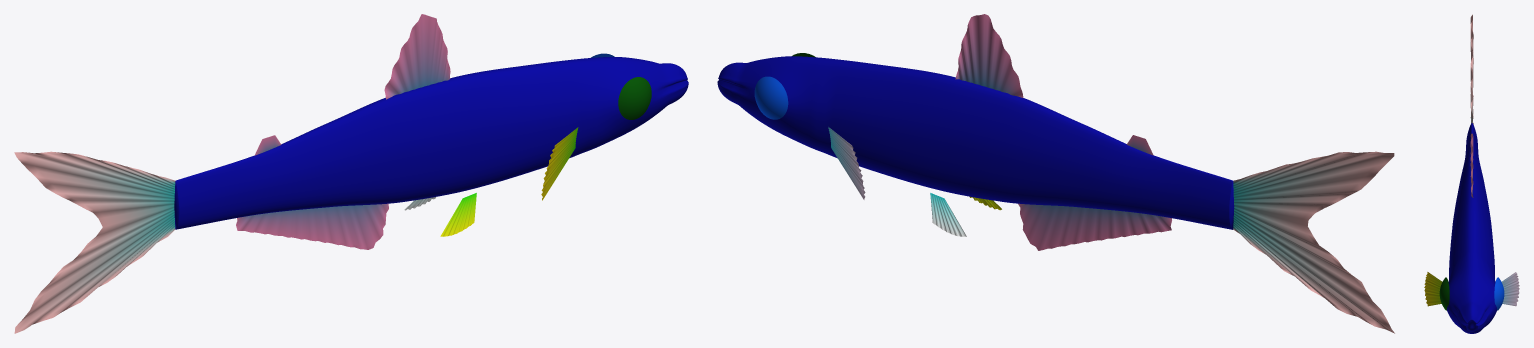
Rendered from rummy.glb.
The picture shows the model from 3 angles, left to right: view 1: azimuth 30°, elevation 25°; view 2: azimuth 150°, elevation 25°; view 3: azimuth 270°, elevation 25°; orthographic projection. The views are drawn at different scales.
Parts seen in each view (by area): view 1: rummy; view 2: rummy; view 3: rummy.
Part boxes in pixels (x1=…): rummy: x1=14, y1=14, x2=688, y2=333; rummy: x1=717, y1=14, x2=1394, y2=333; rummy: x1=1424, y1=14, x2=1519, y2=333.
Bounding box in the file's own units: 1.31 × 0.4165 × 0.2173.
